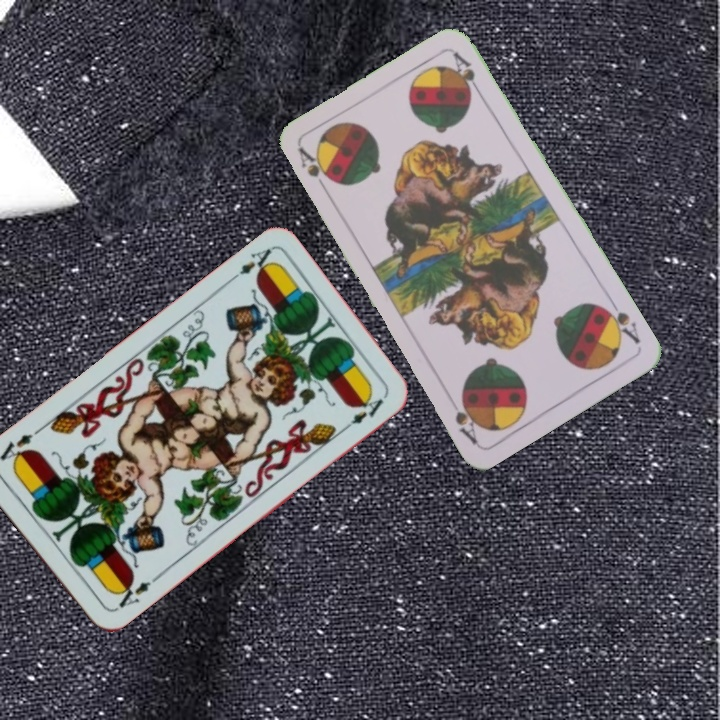EA: (223, 244, 278, 286), (111, 572, 161, 611)
SA: (596, 294, 643, 347), (294, 144, 333, 198)
